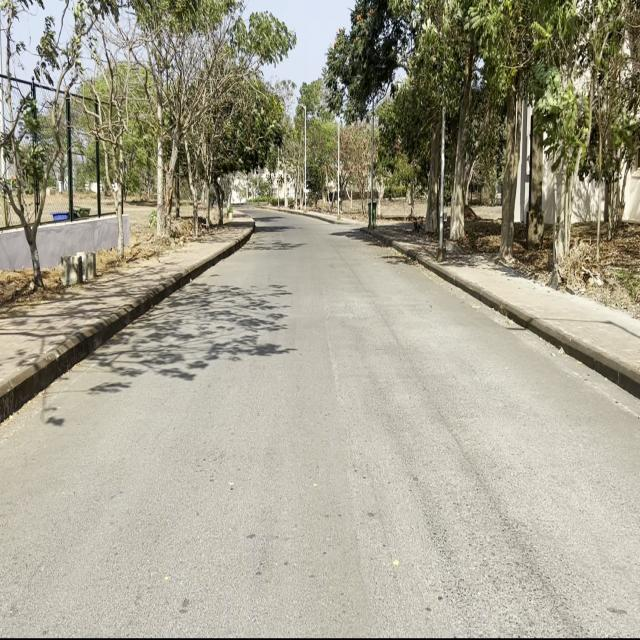Road: (3, 208, 639, 629)
